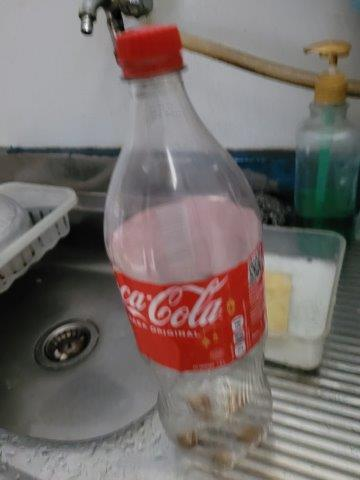botolplastik: (102, 29, 275, 456)
